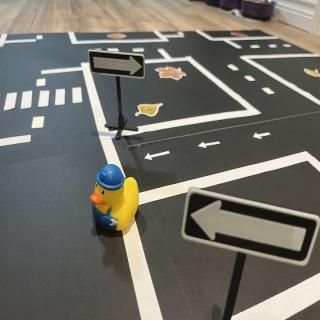duck_specialty: (90, 161, 142, 238)
road_crosswalk: (2, 82, 86, 114)
road_oneway: (255, 129, 275, 145), (145, 151, 174, 162), (198, 139, 224, 151)
sign_oneway_left: (181, 187, 320, 269)
sign_oneway_right: (88, 49, 147, 80)
